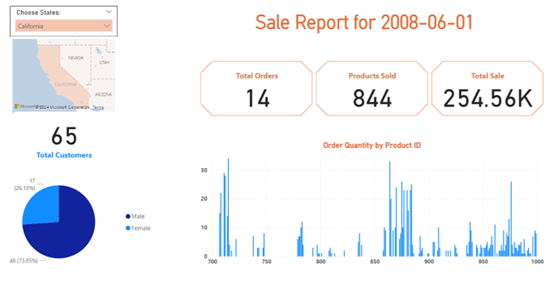

Layout of this report page (visuals, bound fields, positions):
{"tool":"powerbi","page":{"name":"Page 1","canvas":[1280,720],"ordinal":0},"visuals":[{"type":"cardVisual","title":"Total Customer","fields":{"Data":["Count(Merged-orders&address.sales_order_id)","Sum(Merged-orders&address.order_qty)","Sum(Merged-orders&address.line_total)"]},"box":[477,170.2,759,129.5],"z":0},{"type":"slicer","fields":{"Values":["address.state_province"]},"box":[65.6,55,235,66.5],"z":1000},{"type":"filledMap","fields":{"Category":["Merged-orders&address.state_province"]},"box":[65.6,121.5,235,172],"z":2000},{"type":"card","fields":{"Values":["CountNonNull(Customer.customer_id)"]},"box":[74.5,285.5,218.1,111.7],"z":3000},{"type":"pieChart","title":"Customer Classcification","fields":{"Category":["Customer.Sex"],"Y":["CountNonNull(Customer.Sex)"]},"box":[21.3,409.7,366.2,233.2],"z":4000},{"type":"clusteredColumnChart","title":"Order Quantity by Product ID","fields":{"Category":["Merged-orders&address.product_id"],"Y":["Sum(Merged-orders&address.order_qty)"]},"box":[477,348.5,759,282.9],"z":5000},{"type":"textbox","box":[477,55,728,66.5],"z":6000}]}

Visuals, with their boxes on the page's 1280x720 design canvas (x1, y1, x2, y2). These are canvas units, not pixel positions in the 554x281 screenshot, which may show the page scaled, cropped or inside an application window:
"Total Customer" cardVisual: (x1=477, y1=170, x2=1236, y2=300)
slicer - address.state_province: (x1=66, y1=55, x2=301, y2=122)
filledMap - Merged-orders&address.state_province: (x1=66, y1=122, x2=301, y2=294)
card - CountNonNull(Customer.customer_id): (x1=74, y1=286, x2=293, y2=397)
"Customer Classcification" pieChart: (x1=21, y1=410, x2=388, y2=643)
"Order Quantity by Product ID" clusteredColumnChart: (x1=477, y1=348, x2=1236, y2=631)
textbox: (x1=477, y1=55, x2=1205, y2=122)
